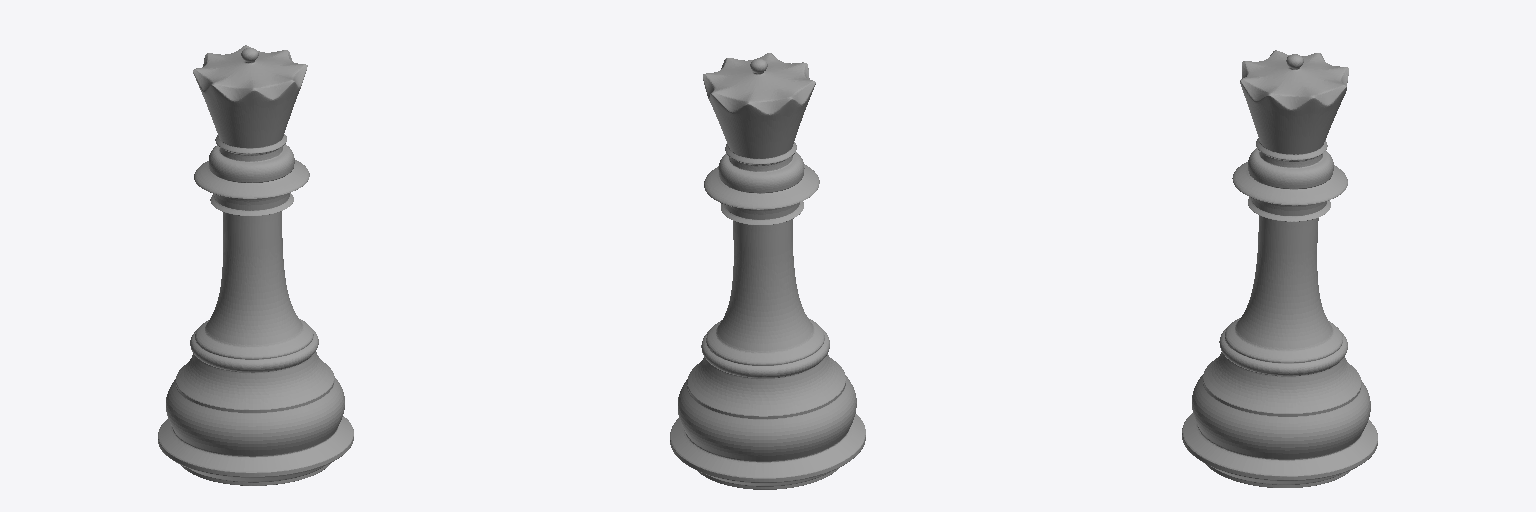
Rendered from Queen.obj.
3 views of the same model, side by side, from view 1: azimuth 30°, elevation 25°; view 2: azimuth 150°, elevation 25°; view 3: azimuth 270°, elevation 25° (orthographic).
Parts seen in each view (by area): view 1: WoodenChessQueenSideA; view 2: WoodenChessQueenSideA; view 3: WoodenChessQueenSideA.
Part boxes in pixels (bbox=[...]): WoodenChessQueenSideA: bbox=[158, 45, 353, 485]; WoodenChessQueenSideA: bbox=[670, 53, 865, 489]; WoodenChessQueenSideA: bbox=[1182, 50, 1377, 487].
Size of the model in its own units: 6.96 by 15.77 by 6.96.